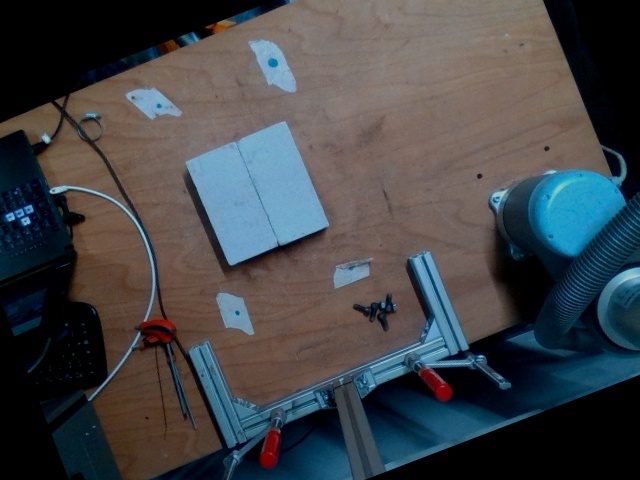brick: (185, 142, 278, 265), (236, 122, 328, 244)
